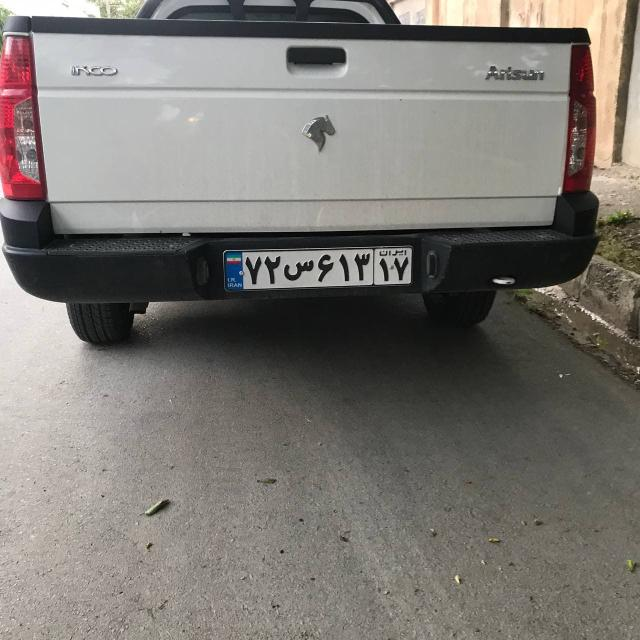Plates: (223, 244, 413, 291)
